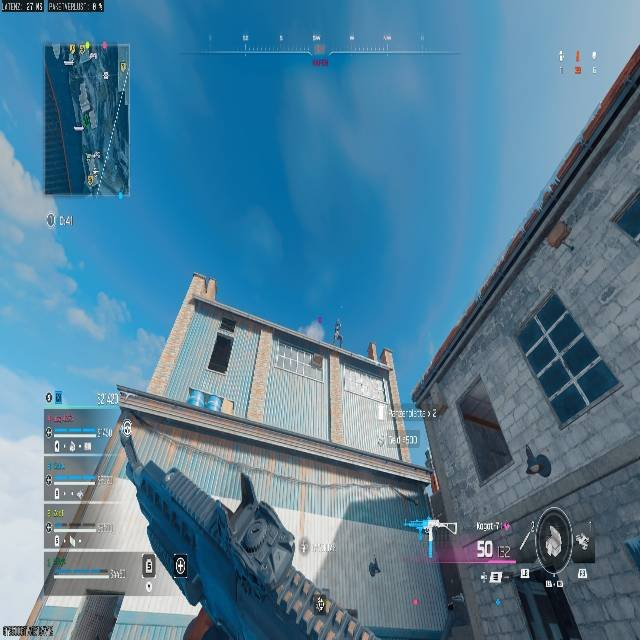head: (63, 10, 640, 640)
